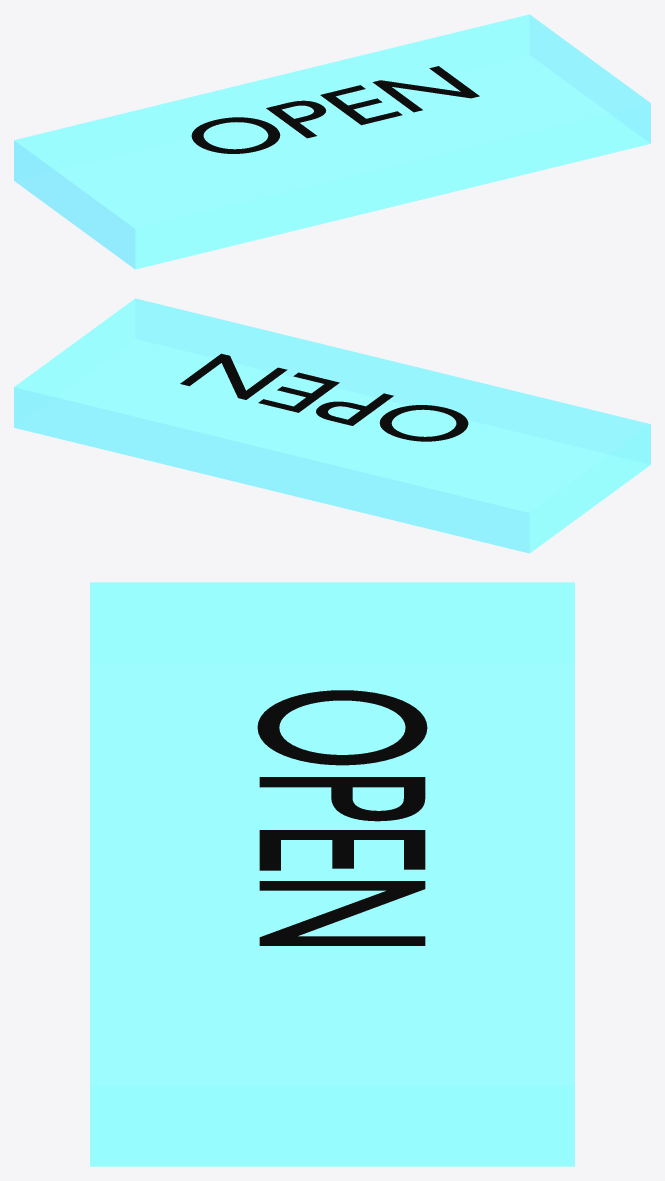
The model's file is openbutton.glb.
3 views of the same model, one above another, from view 1: azimuth 30°, elevation 25°; view 2: azimuth 150°, elevation 25°; view 3: azimuth 270°, elevation 25° (orthographic). The views are drawn at different scales.
Visible parts, largest first — view 1: Cube, Text; view 2: Cube, Text; view 3: Cube, Text.
Part boxes in pixels (x1,y1,x2,y2): Cube: (14,14,650,269); Text: (191,66,479,153); Cube: (14,298,650,553); Text: (180,353,468,441); Cube: (90,582,574,1166); Text: (257,690,427,945).
Bounding box in the file's own units: 4.91 × 0.4342 × 2.
